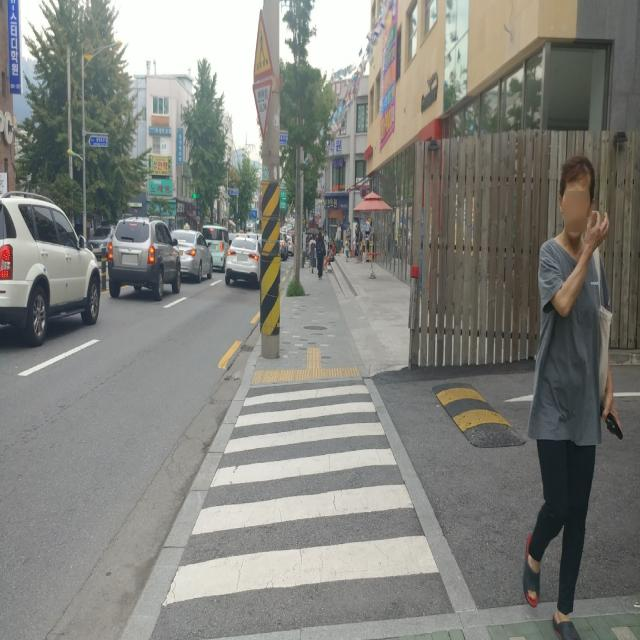횡단보도: (162, 384, 440, 607)
